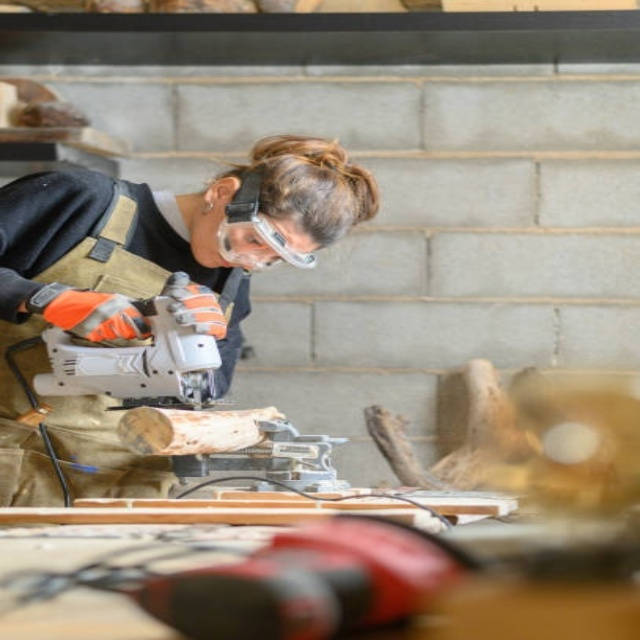Gafas: (222, 172, 317, 270)
Guantes: (40, 287, 153, 343), (158, 277, 228, 341)
